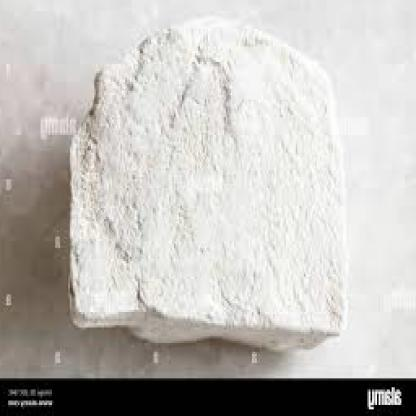Sedimentary_Chalk: (67, 18, 354, 354)
